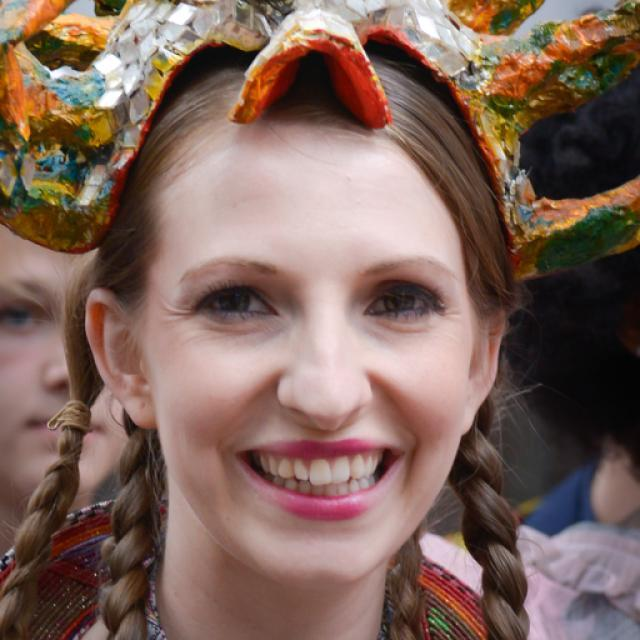happy: (155, 112, 475, 588)
